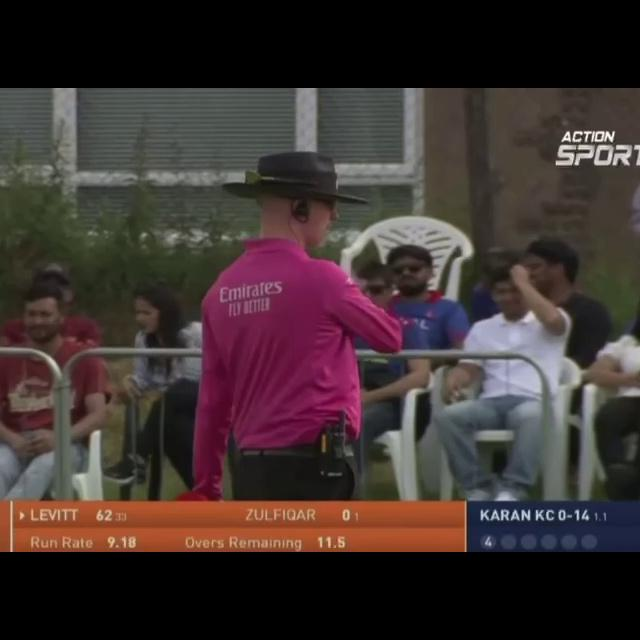umpire: (151, 137, 488, 475)
